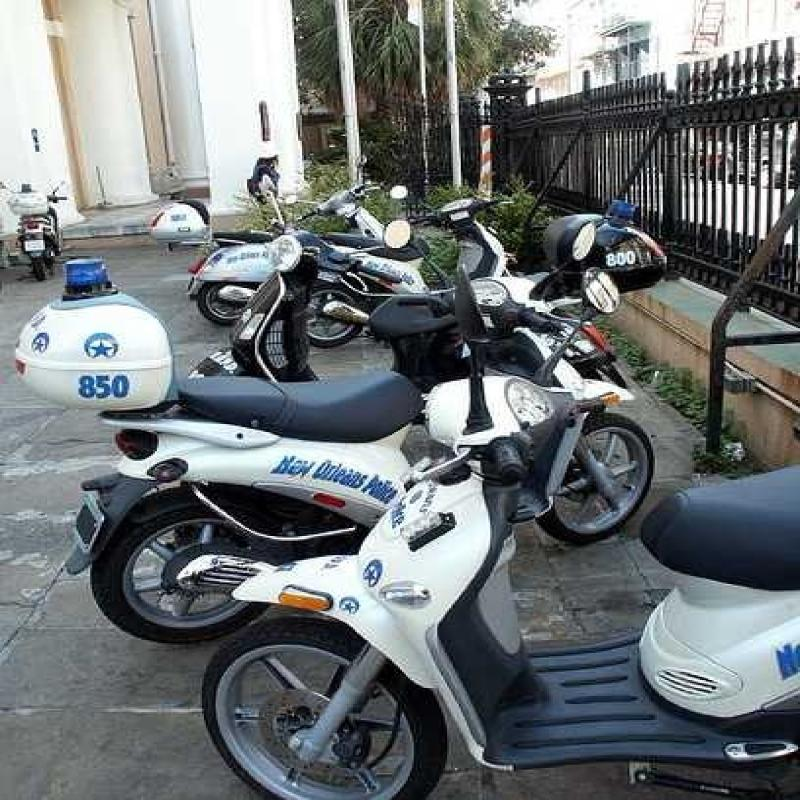bike: (264, 356, 800, 800)
